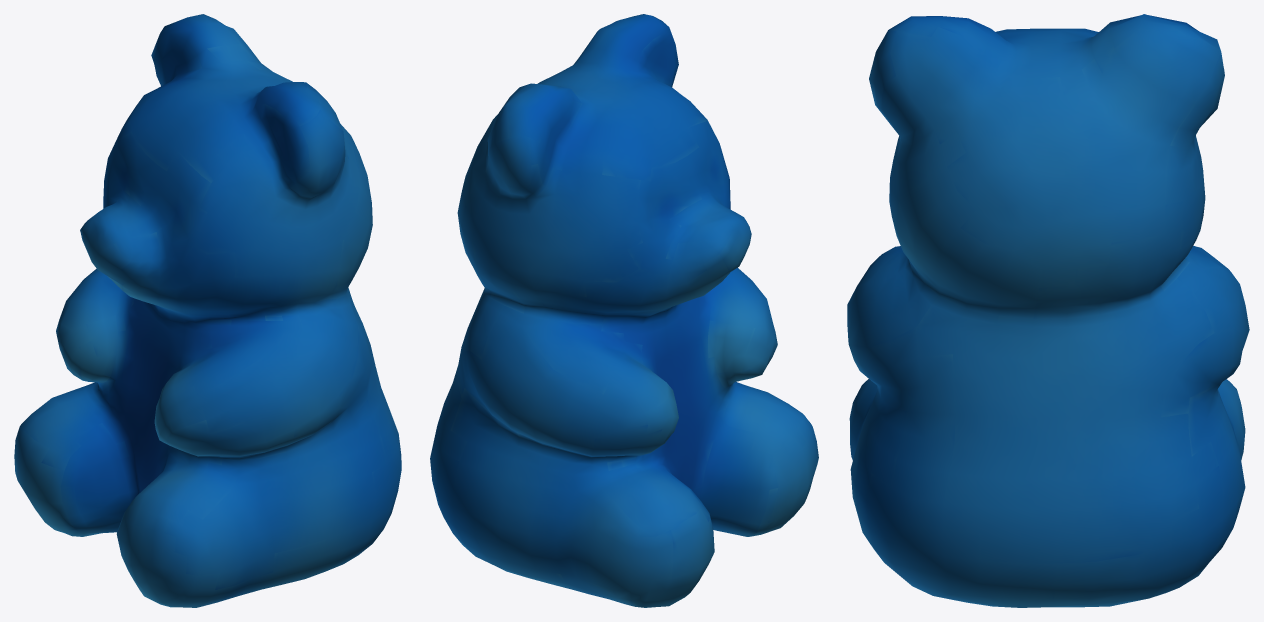
The model's file is tripo_node_79cfce85.glb.
The picture shows the model from 3 angles, left to right: view 1: azimuth 30°, elevation 25°; view 2: azimuth 150°, elevation 25°; view 3: azimuth 270°, elevation 25°; orthographic projection. The views are drawn at different scales.
Visible parts, largest first — view 1: geometry_0; view 2: geometry_0; view 3: geometry_0.
Boxes of the visible parts, box(x1,y1,x2,y2) form: geometry_0: box(14, 14, 401, 607); geometry_0: box(430, 14, 818, 607); geometry_0: box(847, 14, 1249, 607).
Size of the model in its own units: 0.6337 by 0.9938 by 0.6581.
1 material, 1 textured.
